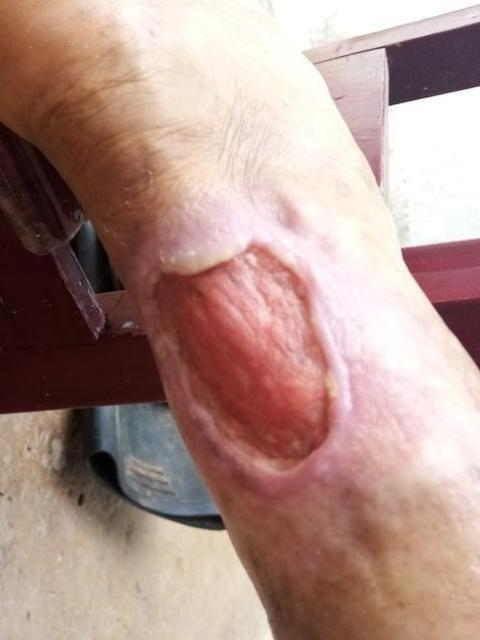wound: (151, 235, 341, 477)
